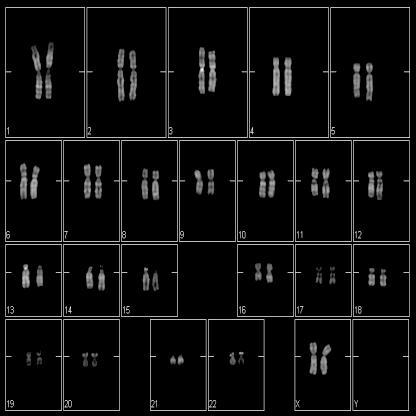1: (29, 42, 43, 100), (44, 41, 55, 100)
10: (266, 167, 276, 200), (258, 169, 266, 200)
11: (320, 166, 332, 200), (310, 166, 320, 198)
12: (375, 169, 384, 204), (367, 168, 376, 199)
13: (20, 263, 30, 289), (35, 262, 44, 290)
14: (97, 262, 106, 294), (85, 264, 94, 292)
15: (141, 263, 150, 294), (152, 268, 160, 292)
16: (252, 262, 264, 284), (264, 262, 275, 284)
17: (314, 264, 324, 286), (328, 264, 336, 286)
18: (378, 266, 388, 289), (368, 265, 376, 288)
19: (36, 348, 43, 368), (25, 349, 32, 368)
2: (116, 46, 127, 104), (127, 48, 138, 102)
20: (80, 350, 90, 370), (90, 350, 98, 370)
21: (168, 353, 178, 368), (178, 352, 184, 368)
22: (228, 349, 236, 368), (238, 349, 246, 368)
3: (206, 48, 218, 96), (198, 44, 206, 98)
4: (270, 54, 282, 98), (283, 55, 292, 97)
5: (364, 60, 374, 102), (352, 62, 362, 100)
6: (17, 161, 29, 202), (29, 163, 40, 200)
7: (93, 164, 104, 202), (82, 162, 92, 202)
8: (140, 166, 150, 202), (151, 168, 161, 204)
9: (204, 166, 216, 197), (192, 168, 204, 196)
X: (307, 340, 319, 378), (320, 343, 332, 379)
